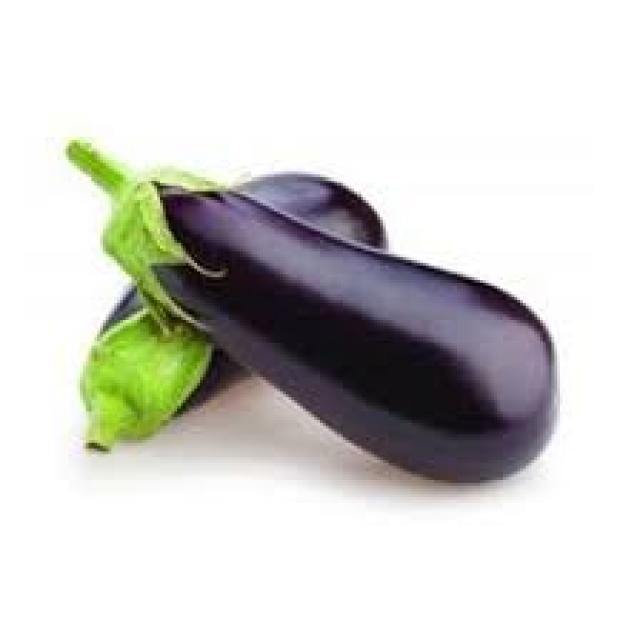eggplant: (114, 163, 557, 483), (77, 171, 383, 446)
